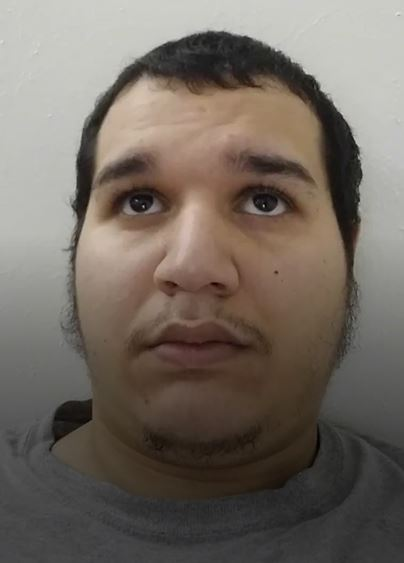Not Sleeping: (82, 144, 335, 250)
